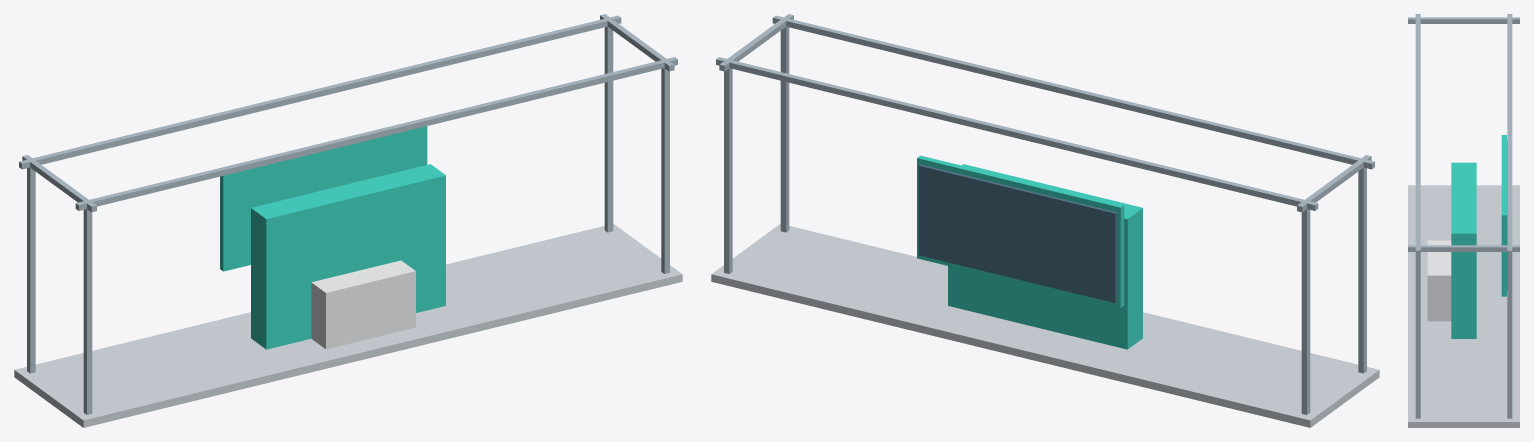
3 renders of one model, left to right at view 1: azimuth 30°, elevation 25°; view 2: azimuth 150°, elevation 25°; view 3: azimuth 270°, elevation 25°, orthographic. The views are drawn at different scales.
Visible parts, largest first — view 1: Exhibition Booth Concept; view 2: Exhibition Booth Concept; view 3: Exhibition Booth Concept.
Boxes of the visible parts, x1,y1,x2,y2 form: Exhibition Booth Concept: (14, 14, 682, 427); Exhibition Booth Concept: (711, 14, 1379, 427); Exhibition Booth Concept: (1408, 14, 1519, 427).
Bounding box in the file's own units: 10 × 3.49 × 2.
